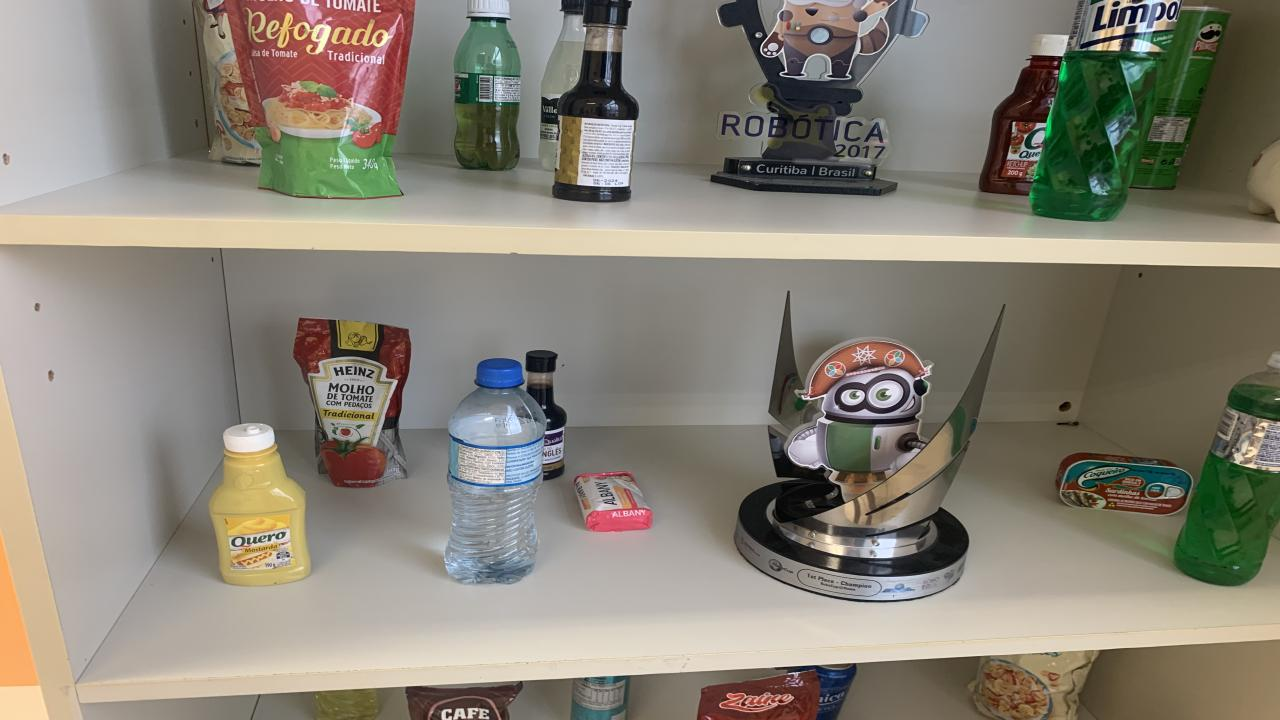Coffee-Pantry_Items: (405, 682, 522, 720)
Detergent-Cleanup_Items: (1030, 0, 1180, 221), (1175, 352, 1280, 585), (315, 688, 378, 720)
English_Sauce-Pantry_Items: (552, 0, 638, 202), (525, 351, 568, 480)
Flakes-Snacks: (192, 0, 262, 165), (968, 651, 1100, 720)
Guarana-Drinks: (455, 0, 520, 171)
Ketchup-Pantry_Items: (980, 34, 1068, 195)
Mustard-Pantry_Items: (208, 424, 310, 585)
Pringles-Snacks: (1130, 8, 1230, 189)
Soap-Cleanup_Items: (575, 472, 652, 531)
Soda-Drinks: (540, 0, 585, 171)
Tea-Drinks: (570, 675, 630, 720)
Tomato_Sauce-Pantry_Items: (228, 0, 415, 197), (292, 319, 410, 488), (698, 671, 820, 720)
Tonic-Drinks: (788, 664, 858, 720)
Trophy-Miscellaneous: (710, 0, 928, 195)
Tuna_Can-Pantry_Items: (1055, 452, 1192, 516)
Water_Bottle-Drinks: (445, 360, 548, 583)
